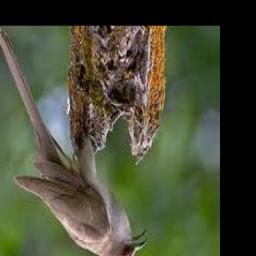Cuckoo: (0, 29, 148, 256)
